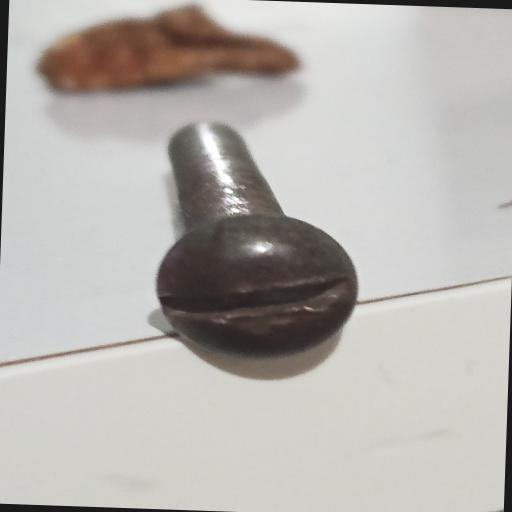Slotted: (144, 197, 365, 364)
